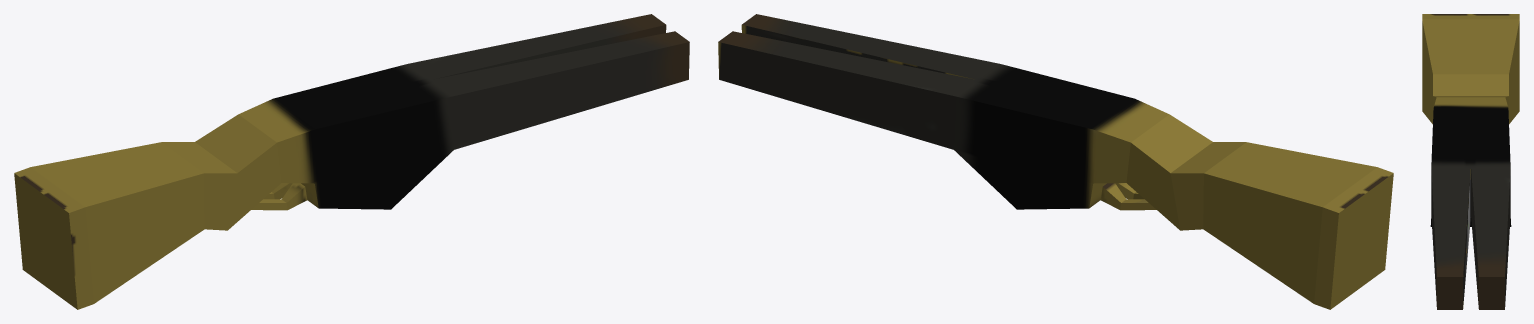
Rendered from a gun.fbx.
3 views of the same model, side by side, from view 1: azimuth 30°, elevation 25°; view 2: azimuth 150°, elevation 25°; view 3: azimuth 270°, elevation 25° (orthographic). The views are drawn at different scales.
Parts seen in each view (by area): view 1: Plane; view 2: Plane; view 3: Plane.
Boxes of the visible parts, x1,y1,x2,y2 form: Plane: (14,14,689,309); Plane: (718,14,1393,309); Plane: (1422,14,1519,309).
Size of the model in its own units: 135 by 24.09 by 20.46.
